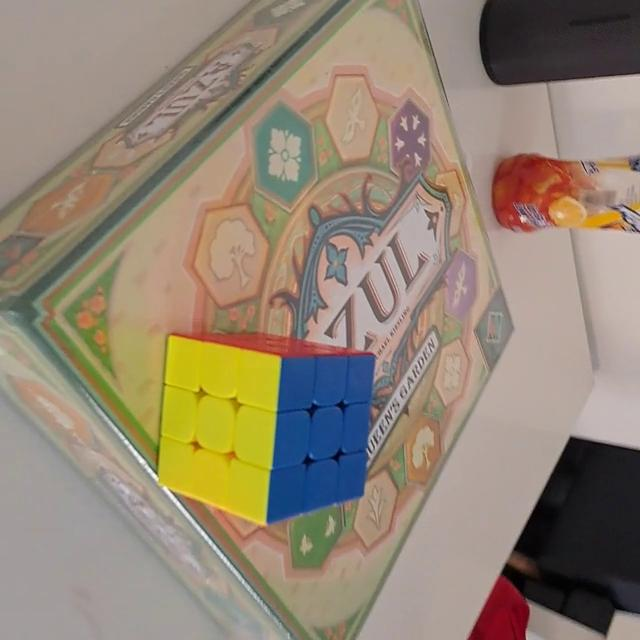rubix_cube: (153, 326, 379, 529)
